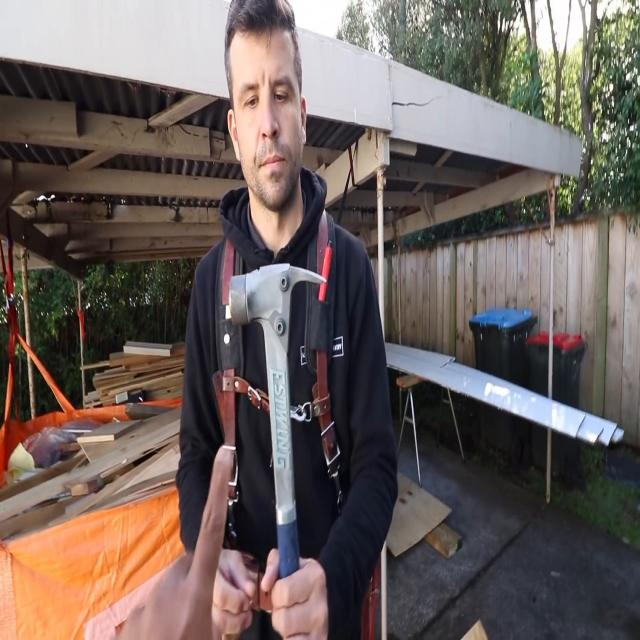hammer: (228, 262, 329, 574)
